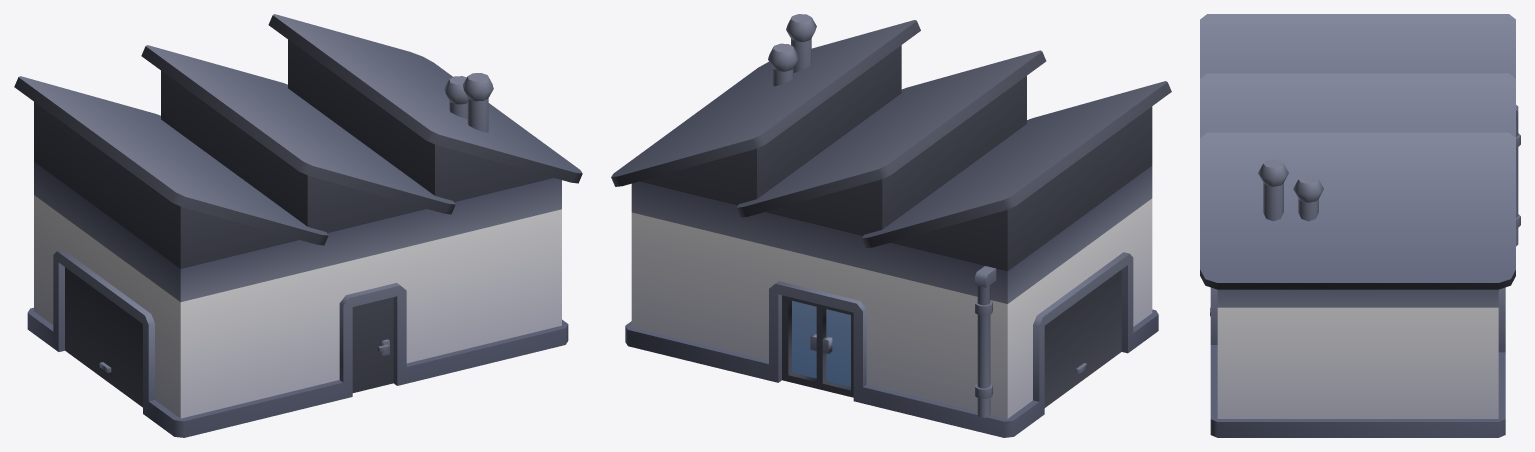
The model's file is building-k_lev1.glb.
The picture shows the model from 3 angles, left to right: view 1: azimuth 30°, elevation 25°; view 2: azimuth 150°, elevation 25°; view 3: azimuth 270°, elevation 25°; orthographic projection. The views are drawn at different scales.
Visible parts, largest first — view 1: building-k_lev1; view 2: building-k_lev1; view 3: building-k_lev1.
Part boxes in pixels (x1,y1,x2,y2): building-k_lev1: [14, 14, 582, 437]; building-k_lev1: [611, 14, 1171, 437]; building-k_lev1: [1200, 14, 1520, 437].
Size of the model in its own units: 14.12 by 8.38 by 9.9.
1 material, 1 textured.
